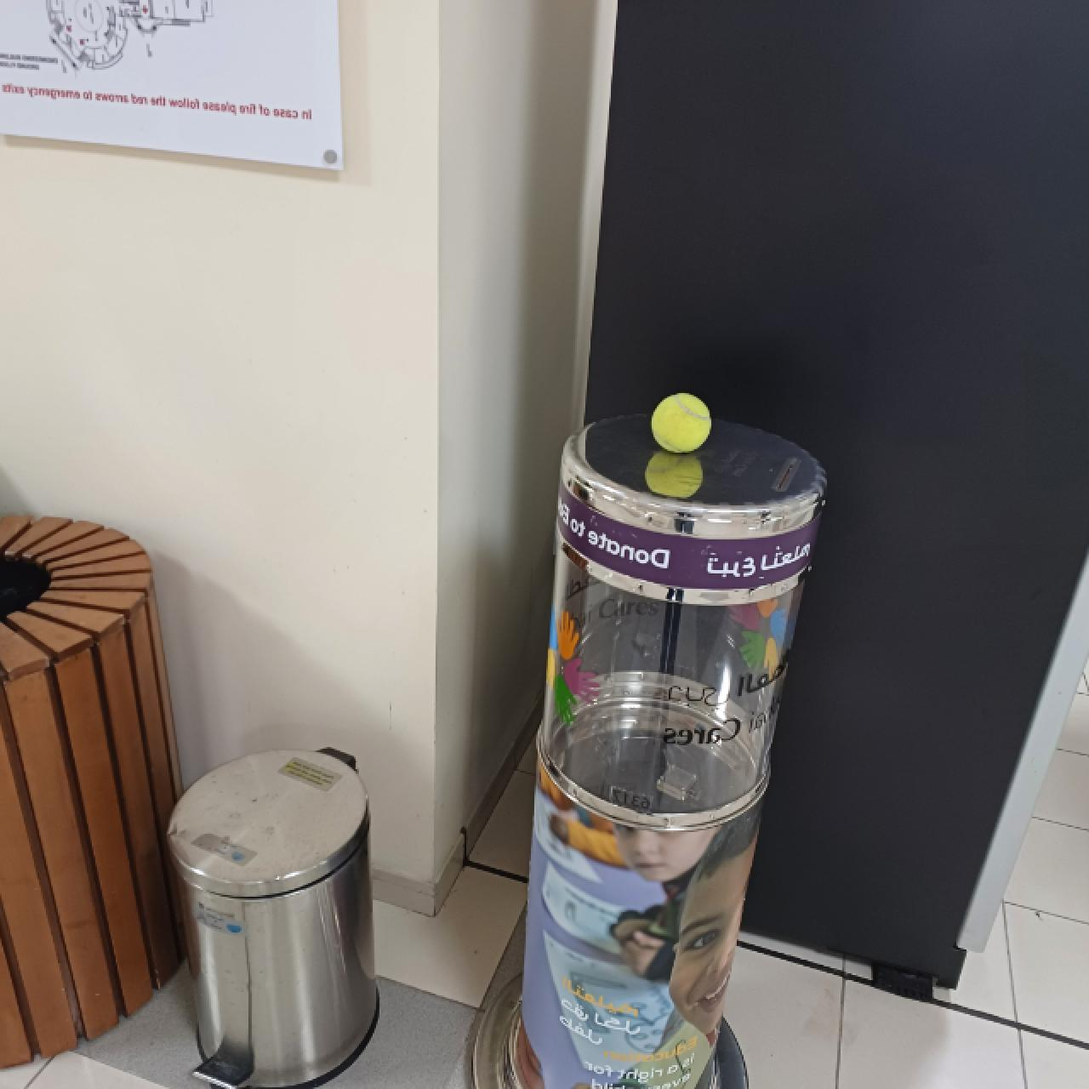tennis-ball: (651, 392, 710, 454)
